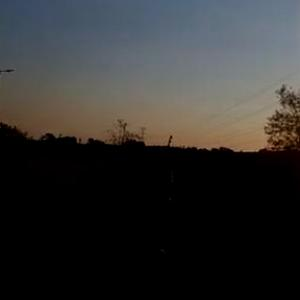follow: (118, 148, 196, 299)
